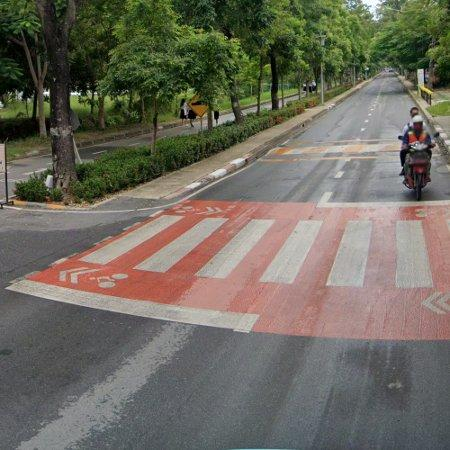crosswalks: (69, 211, 450, 289)
